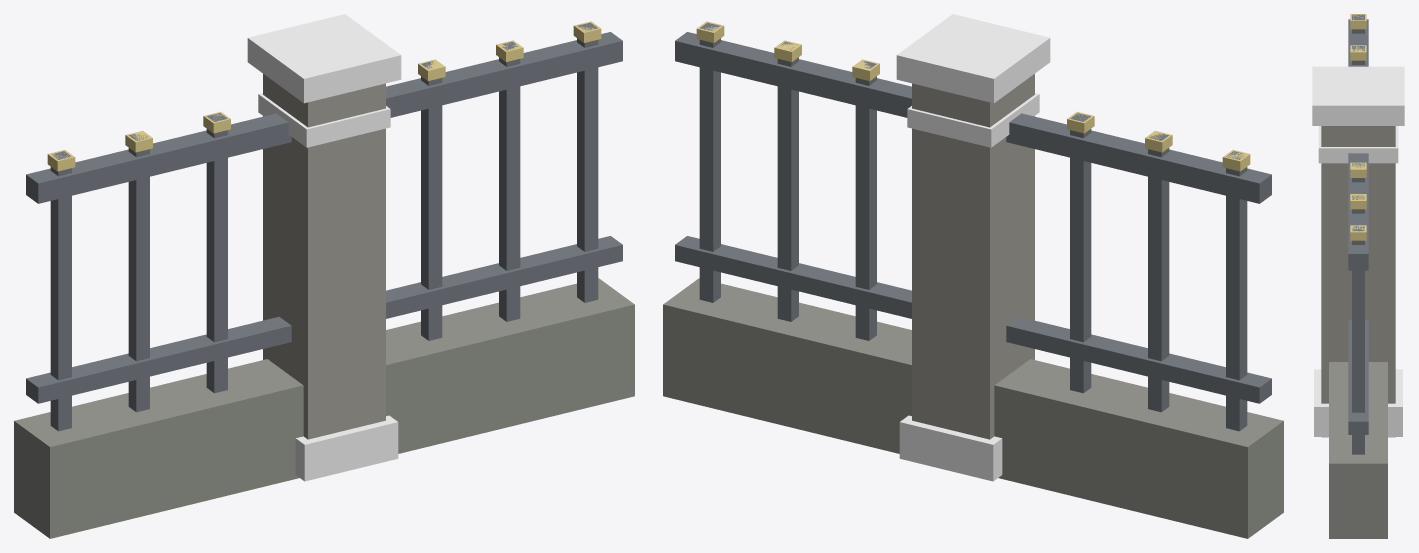
File: fence-w1_close.fbx
3 renders of one model, left to right at view 1: azimuth 30°, elevation 25°; view 2: azimuth 150°, elevation 25°; view 3: azimuth 270°, elevation 25°, orthographic. The views are drawn at different scales.
Parts seen in each view (by area): view 1: a100_fence-w1_close; view 2: a100_fence-w1_close; view 3: a100_fence-w1_close.
Part boxes in pixels (bbox=[...]): a100_fence-w1_close: bbox=[14, 14, 634, 538]; a100_fence-w1_close: bbox=[663, 14, 1283, 538]; a100_fence-w1_close: bbox=[1312, 14, 1404, 538].
Size of the model in its own units: 3 by 2 by 0.5.
